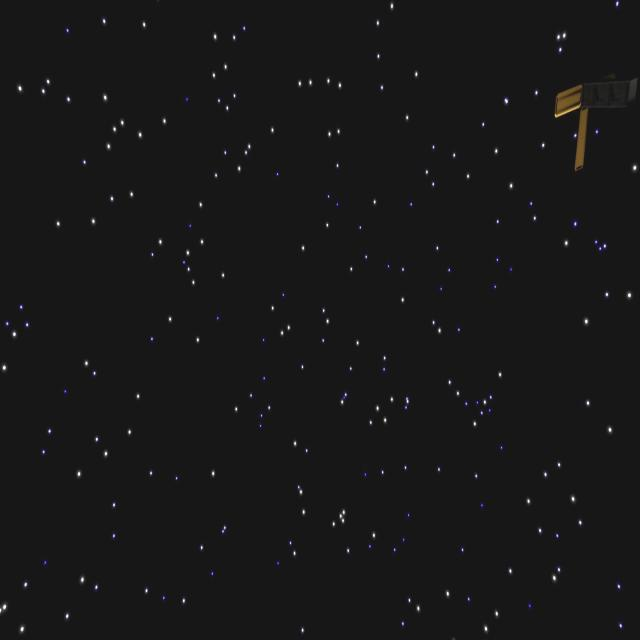medium_debris: (547, 67, 640, 173)
